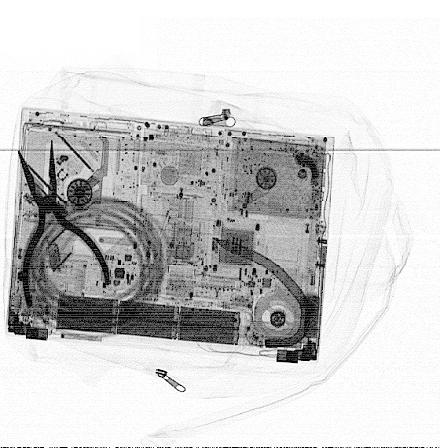Pliers: (17, 135, 114, 312)
